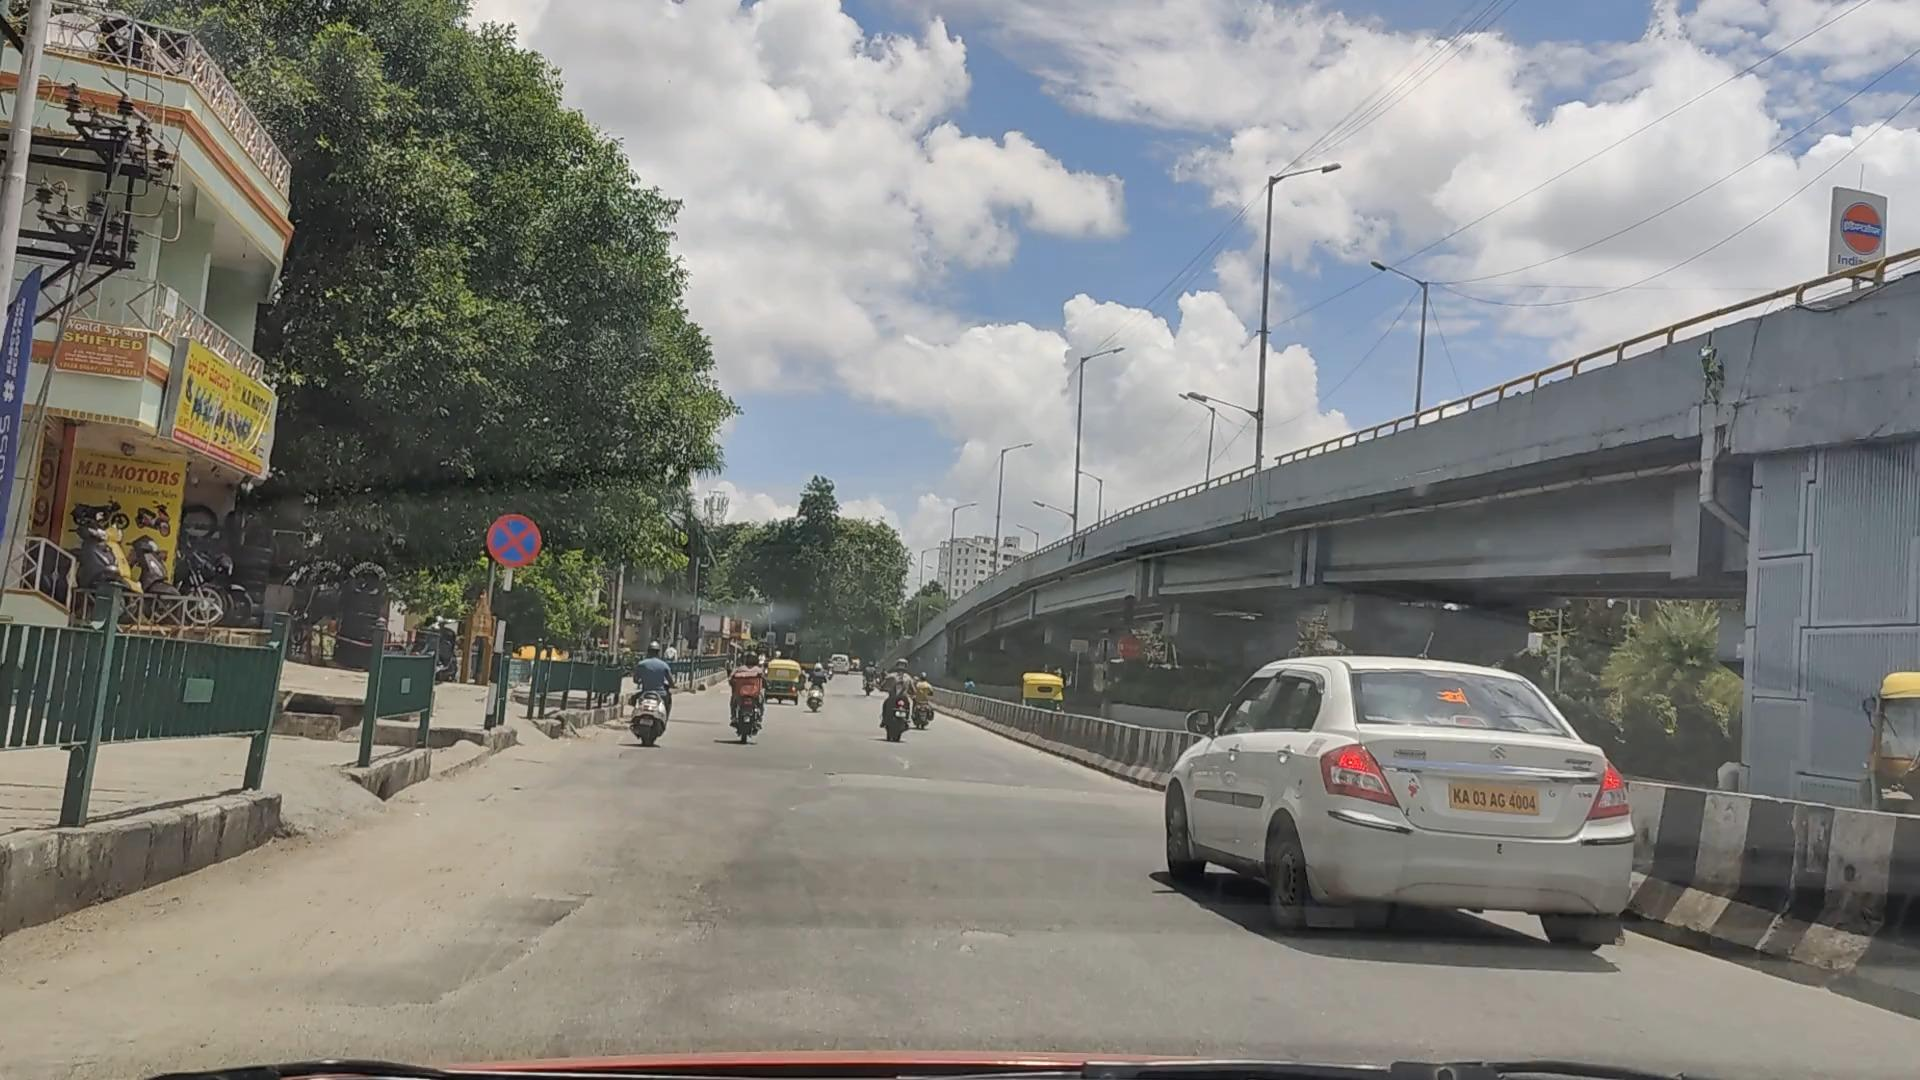LMV: (1151, 658, 1640, 945), (633, 645, 671, 746), (732, 645, 769, 738), (878, 651, 913, 738)
RoadDamages: (827, 767, 1079, 799), (936, 902, 1025, 971), (882, 748, 918, 773), (800, 758, 816, 778)
